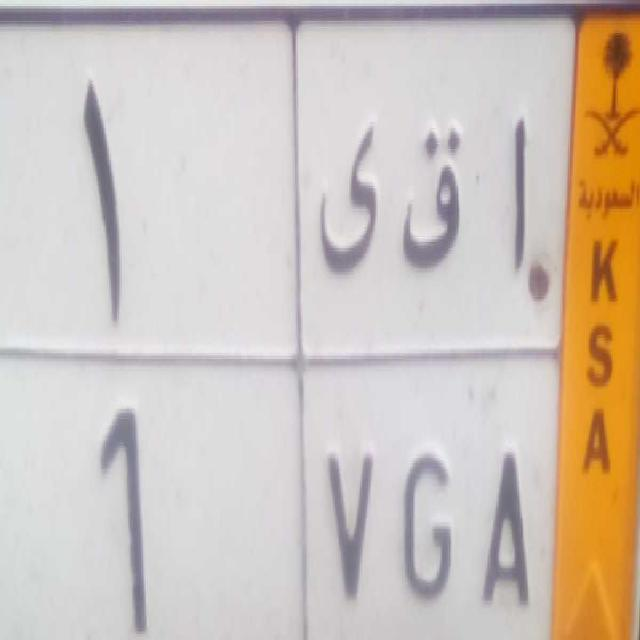license_plate: (3, 348, 557, 640)
